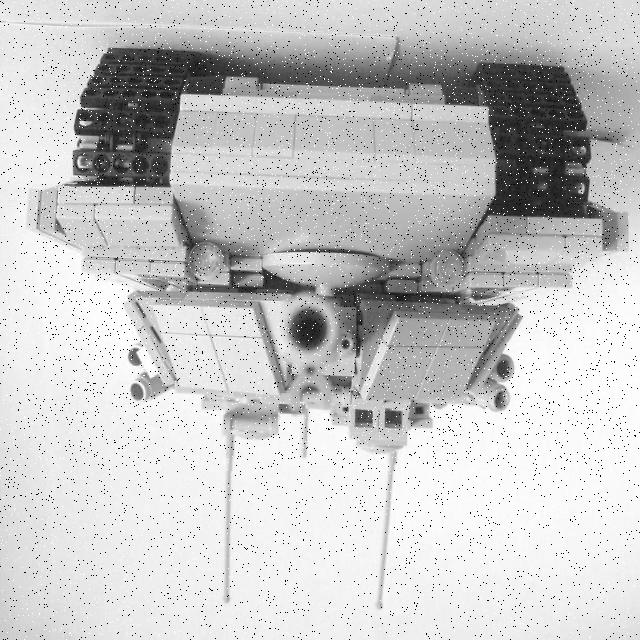MIL_MBT: (39, 40, 628, 470)
